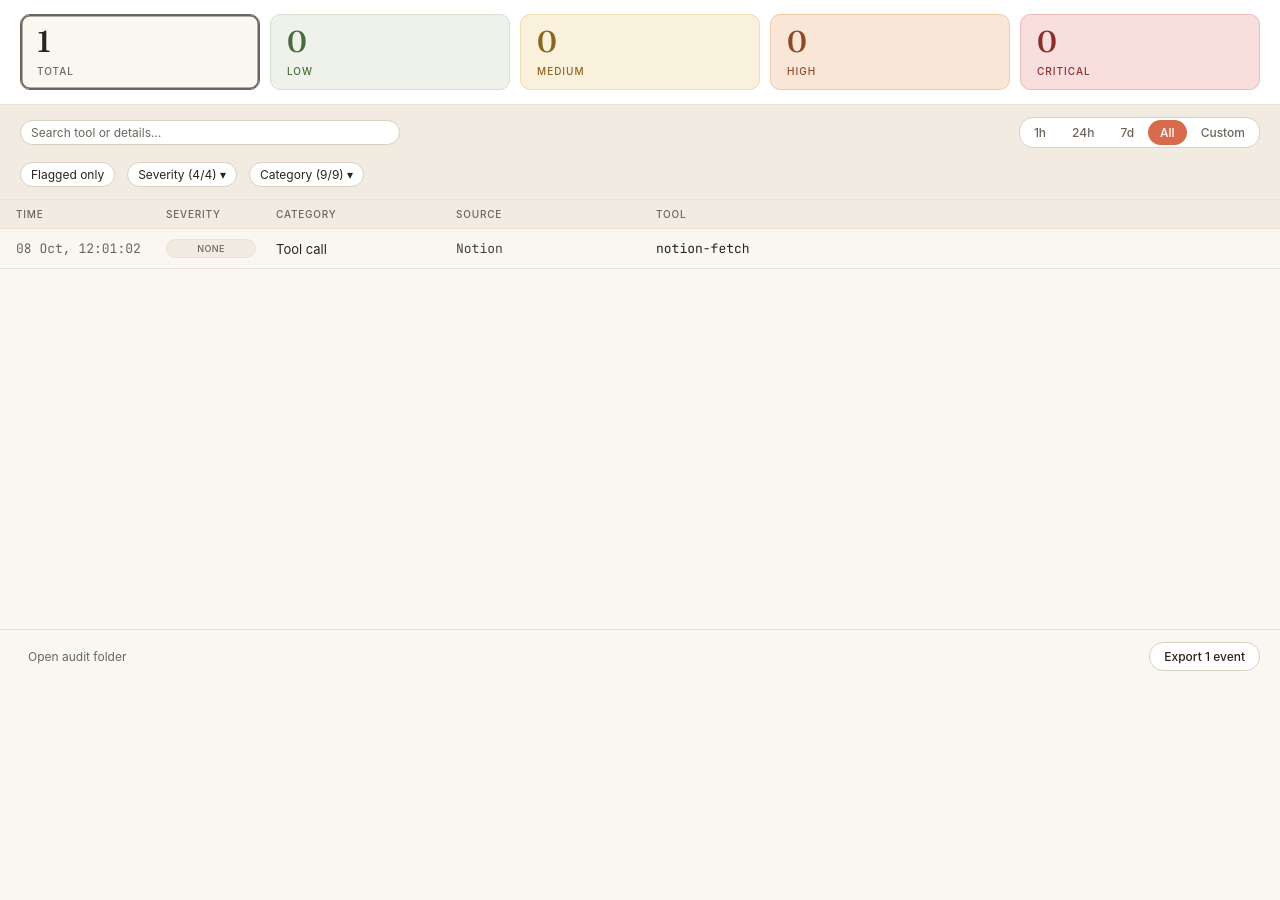
Scenario: Detections — filter parity: search + custom range (22/07) › Clear filters resets search + custom range and restores the list
Expected: the text "notion-fetch" is shown, top-left (656, 240), bottom-right (750, 257)
Type "zzz-no-match" into the search field labelled "Search tool or details" at (210, 132), box top-left (20, 120), bottom-right (400, 145)
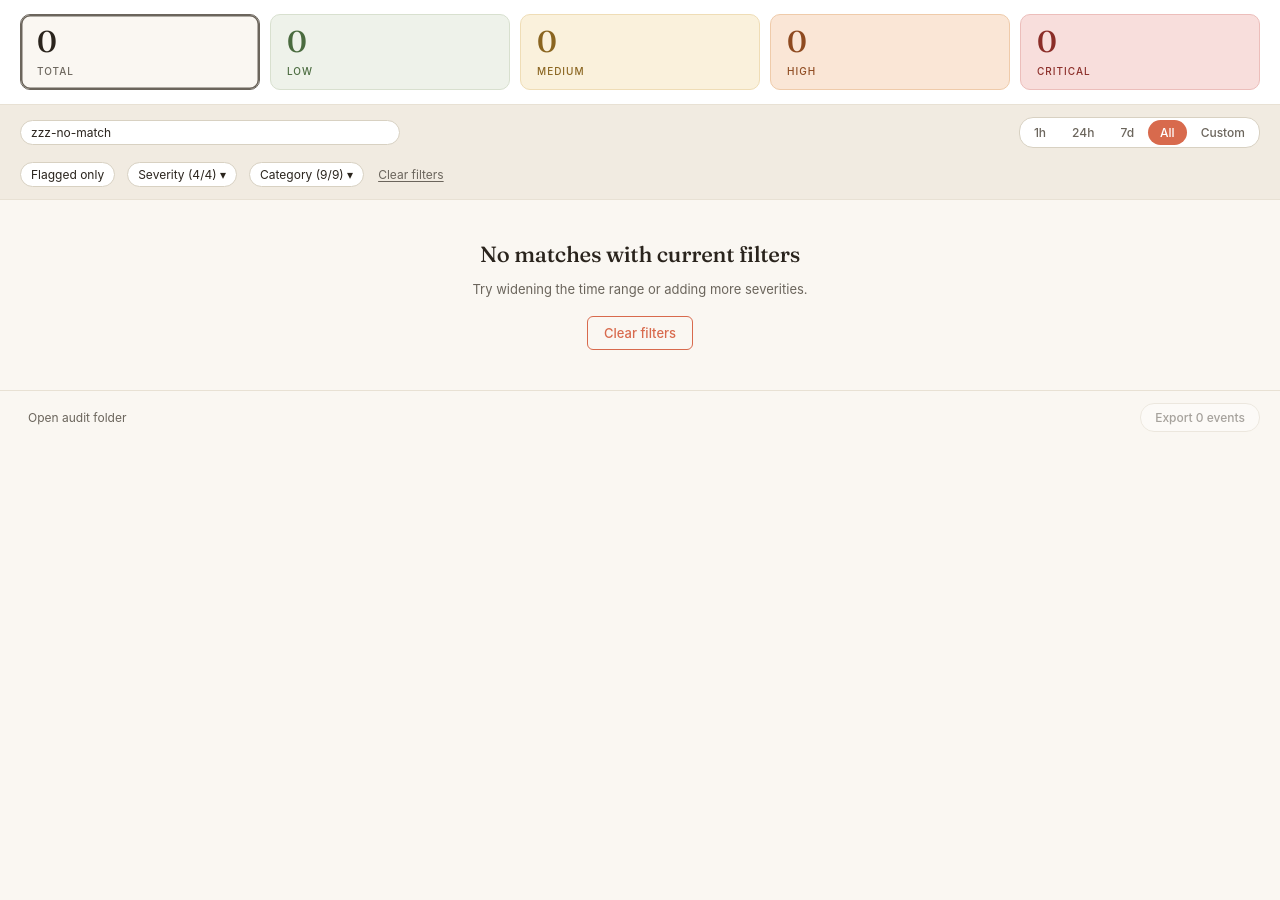
Click the button "Clear filters" below "No matches with current filters" at (640, 332), box top-left (587, 316), bottom-right (693, 350)
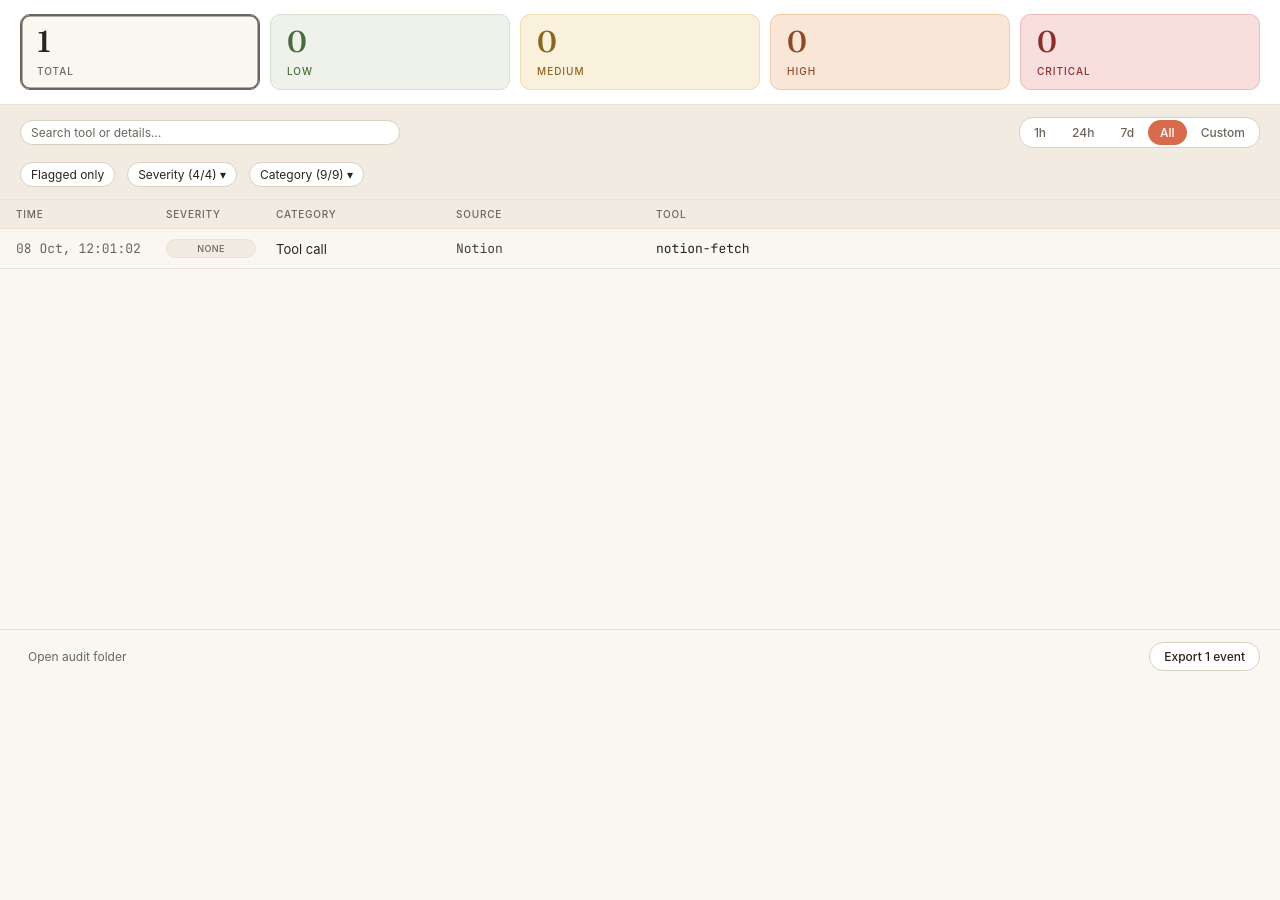
Result: the text "notion-fetch" is shown at top-left (656, 240), bottom-right (750, 257)
Result: the search field labelled "Search tool or details" is empty at top-left (20, 120), bottom-right (400, 145)
